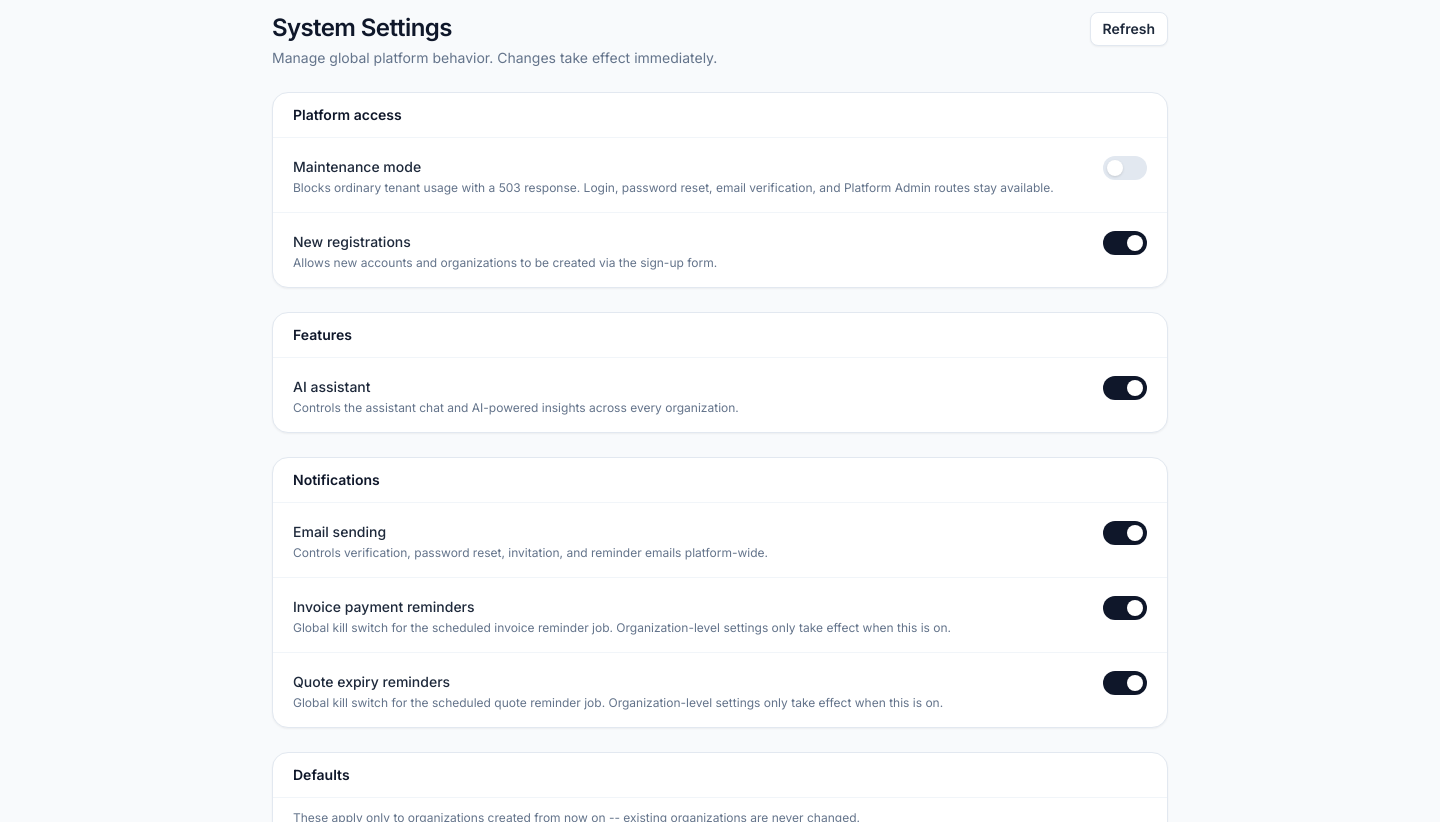
Scenario: PlatformSettingsPage › toggling a switch reveals the unsaved-changes bar, and discarding resets it
Click the switch named "AI assistant" in the row of "AI assistant" at [1125, 388], box [1103,376,1147,400]
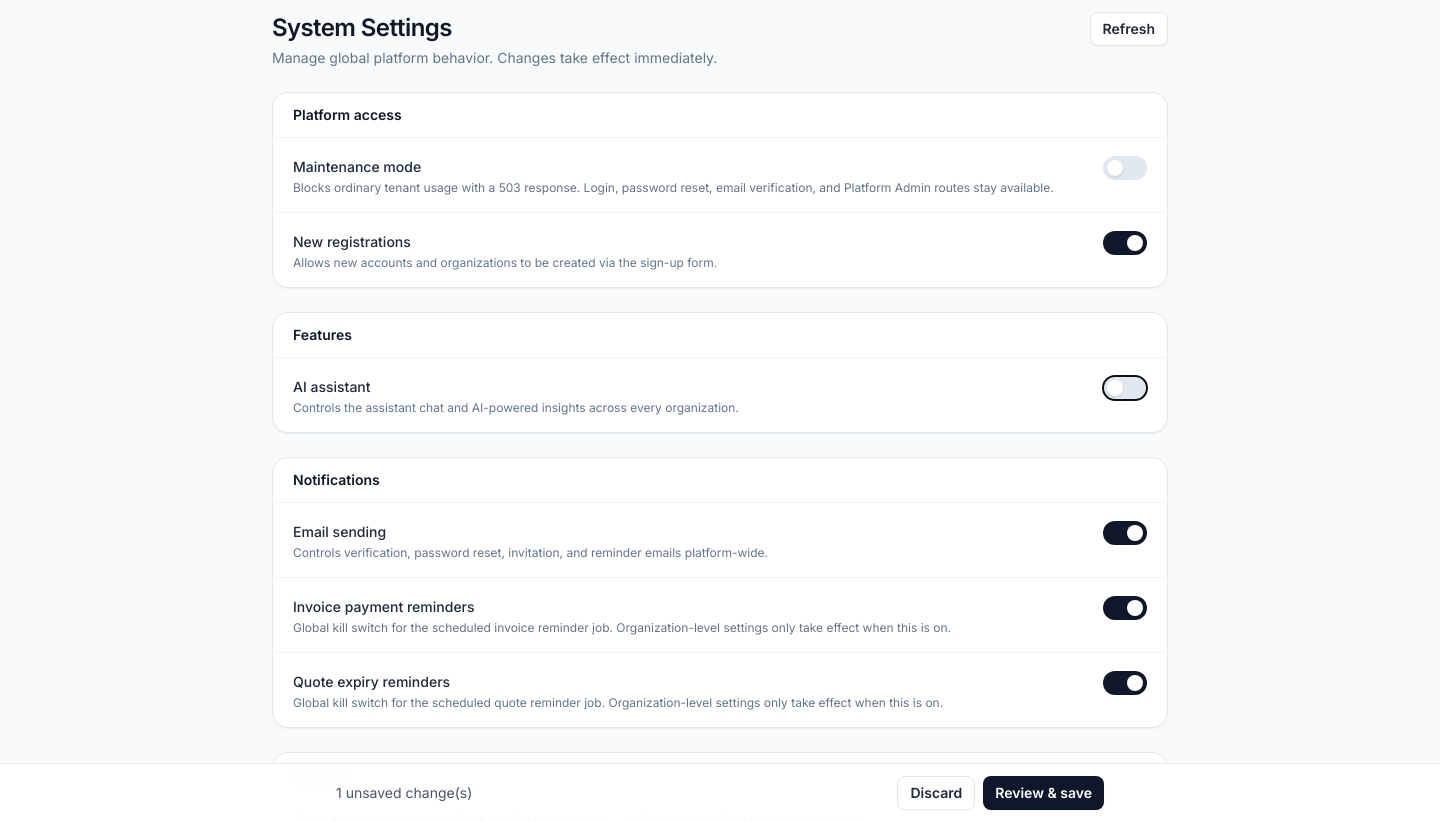
Now the text "1 unsaved change(s)" is shown, box [336,783,472,803]
Click the button "Discard" at [936, 793], box [898,776,975,810]
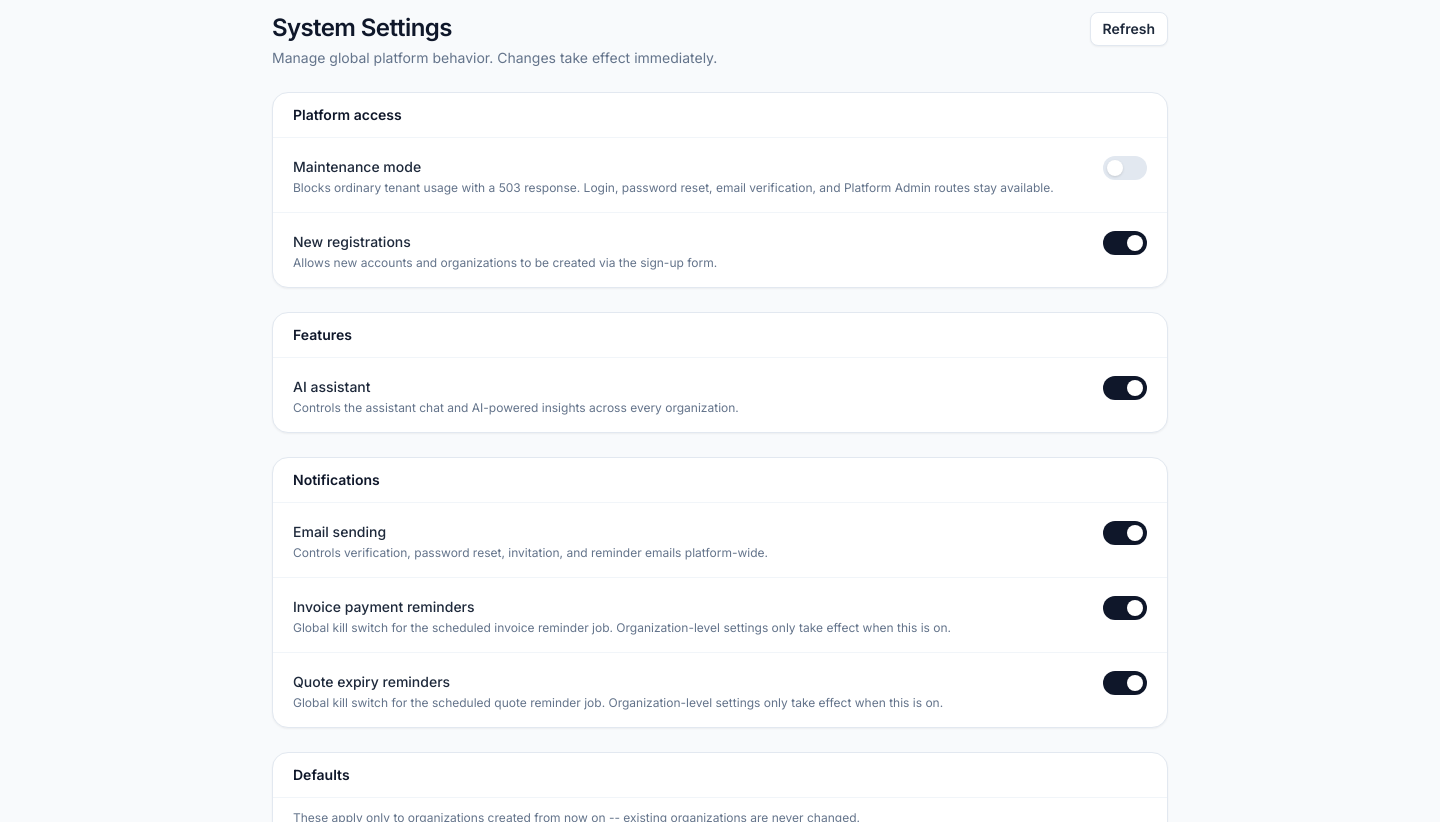
Now the text "unsaved change" is gone
